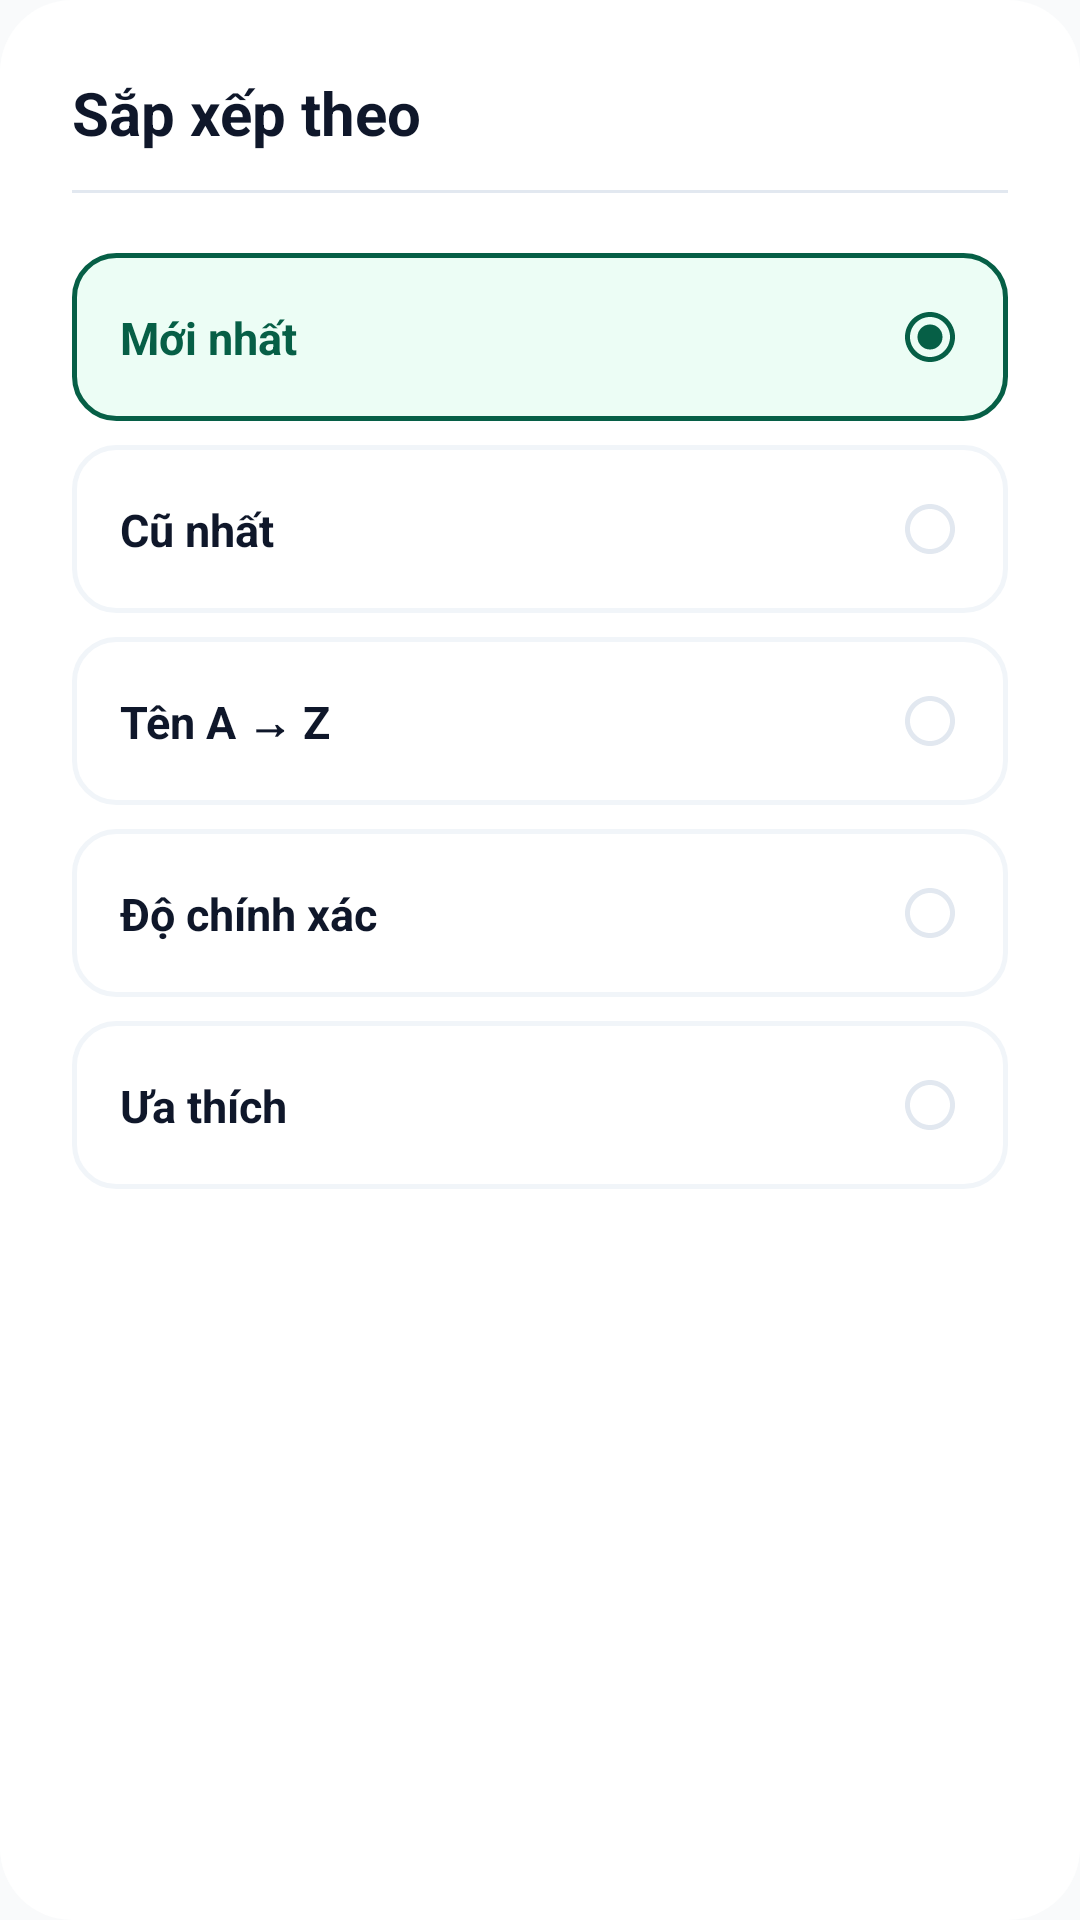

Point at icon controls on the screen. Image size 1080 x 1920, points as (x=x, y=y).
radio checked: (x=930, y=337)
radio unchecked: (x=930, y=529), (x=930, y=721), (x=930, y=913), (x=930, y=1105)
